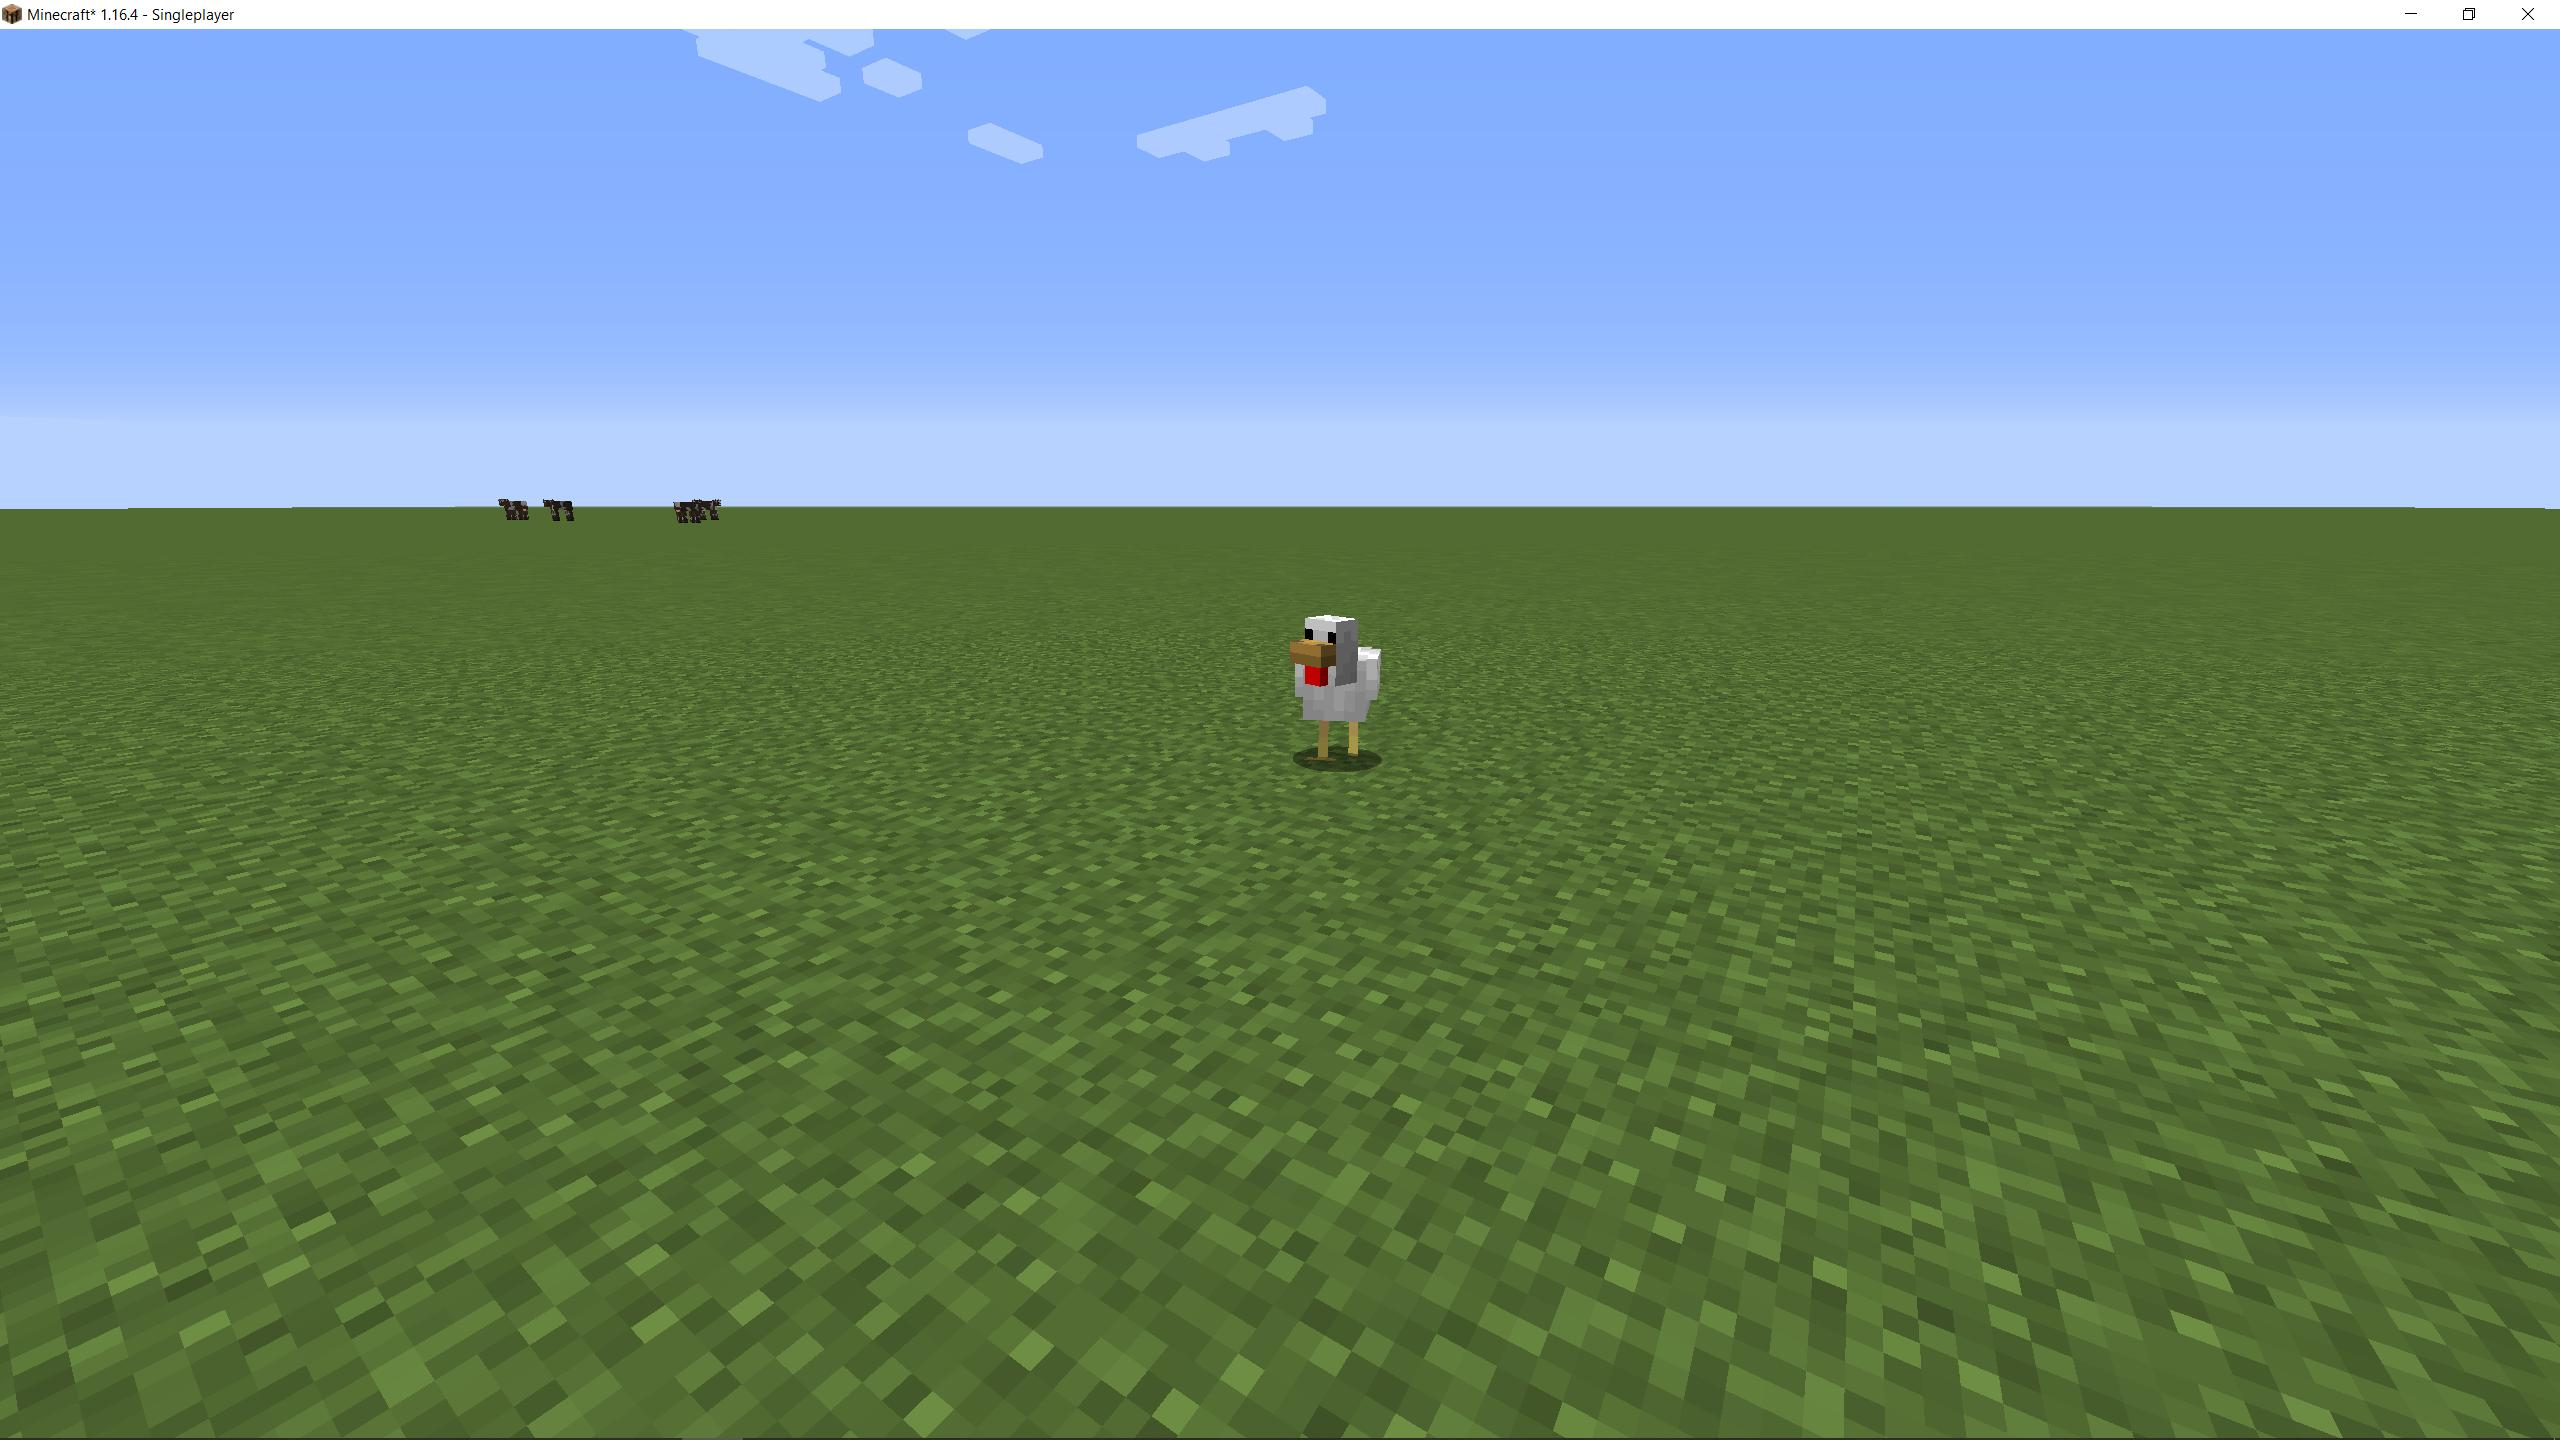chicken: (1291, 608, 1387, 774)
